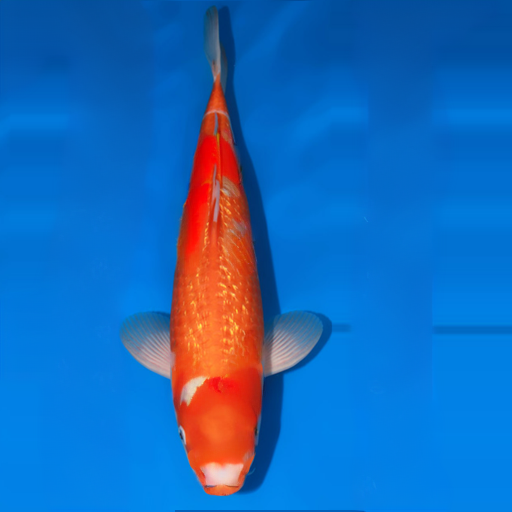red: (121, 9, 330, 498)
